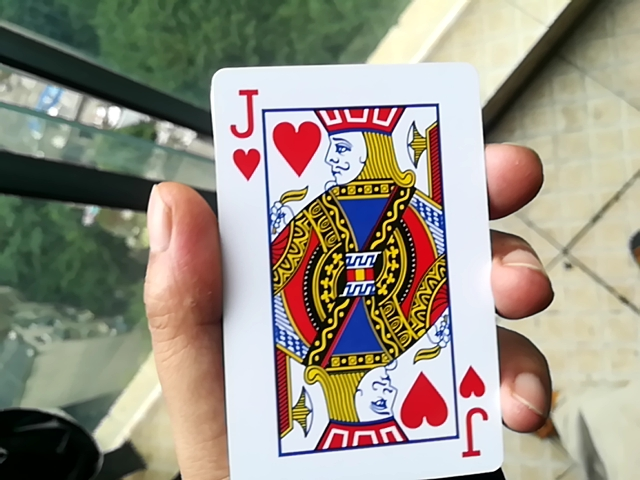hx j: (198, 48, 510, 478)
